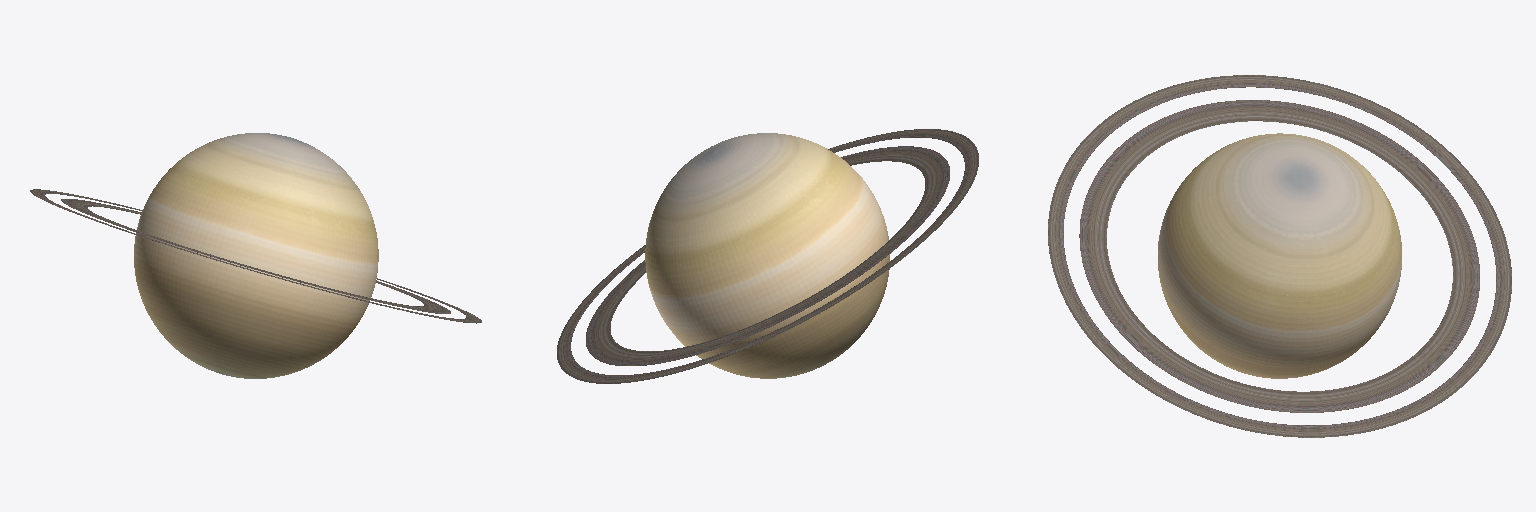
3 views of the same model, side by side, from view 1: azimuth 30°, elevation 25°; view 2: azimuth 150°, elevation 25°; view 3: azimuth 270°, elevation 25° (orthographic).
Parts seen in each view (by area): view 1: 13906_Saturn_v1_l3; view 2: 13906_Saturn_v1_l3; view 3: 13906_Saturn_v1_l3.
Part boxes in pixels (bbox=[...]): 13906_Saturn_v1_l3: bbox=[30, 133, 481, 378]; 13906_Saturn_v1_l3: bbox=[557, 129, 978, 383]; 13906_Saturn_v1_l3: bbox=[1048, 75, 1511, 437].
Bounding box in the file's own units: 305 × 175 × 331.
Materials: 1 (1 with a texture image).